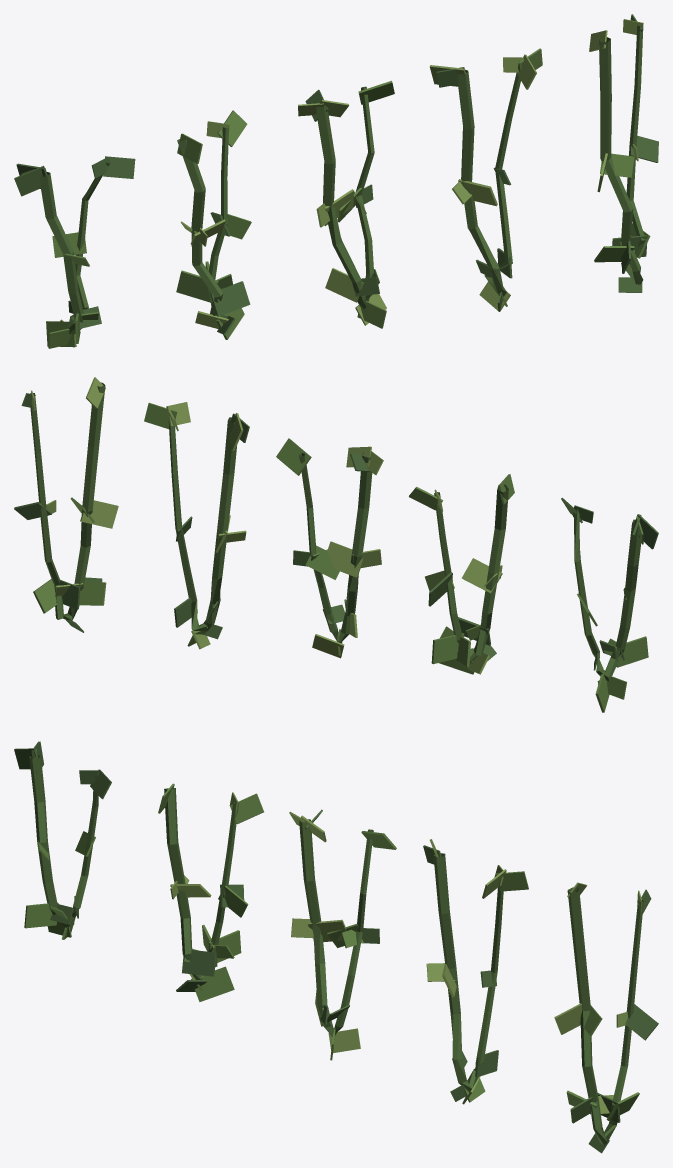
Rendered from VN_RoofDrape.glb.
3 views of the same model, one above another, from view 1: azimuth 30°, elevation 25°; view 2: azimuth 150°, elevation 25°; view 3: azimuth 330°, elevation 25° (orthographic). The views are drawn at different scales.
Visible parts, largest first — view 1: VN_RoofDrape; view 2: VN_RoofDrape; view 3: VN_RoofDrape.
Part boxes in pixels (bbox=[...]): VN_RoofDrape: bbox=[14, 14, 658, 348]; VN_RoofDrape: bbox=[14, 377, 658, 712]; VN_RoofDrape: bbox=[14, 741, 658, 1153].
Size of the model in its own units: 4.72 by 1.84 by 0.582.
